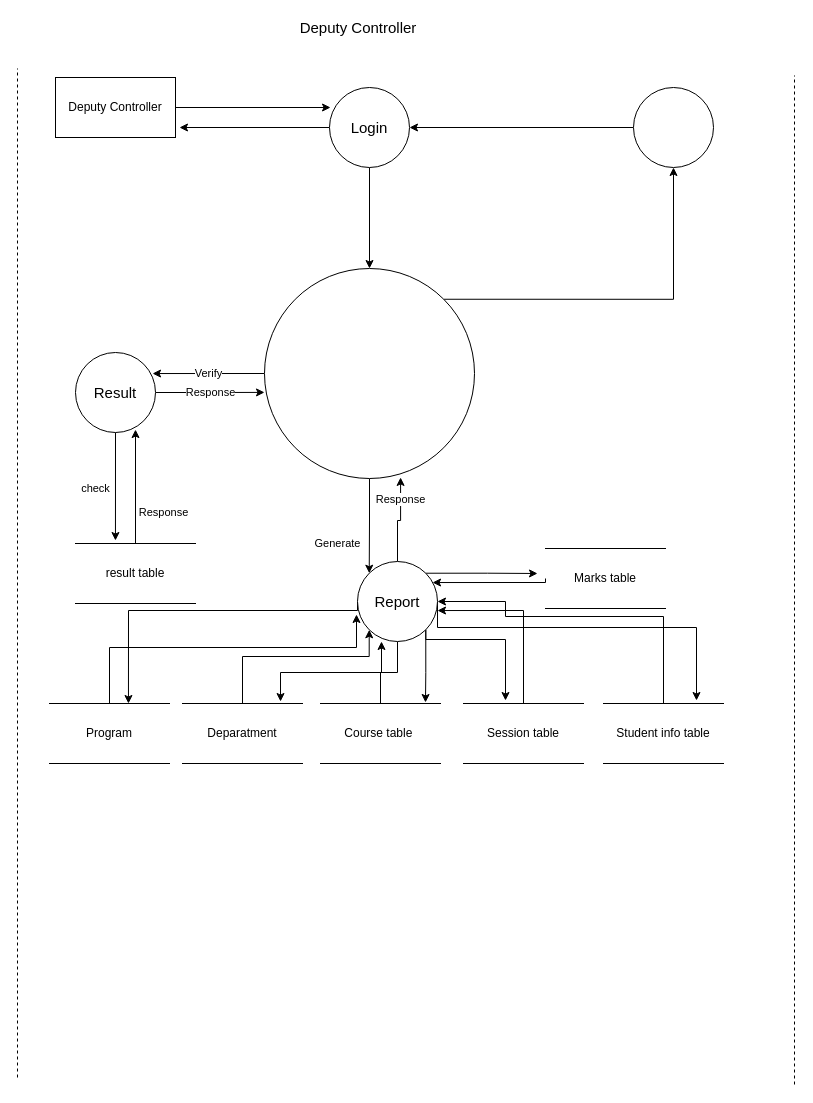
Image size: 813x1103. Some labels were removed from this diagram. Each missing label, with the centre of its shape:
"Dashboard" goes at pixel 369 373.
"Logout" goes at pixel 673 127.
